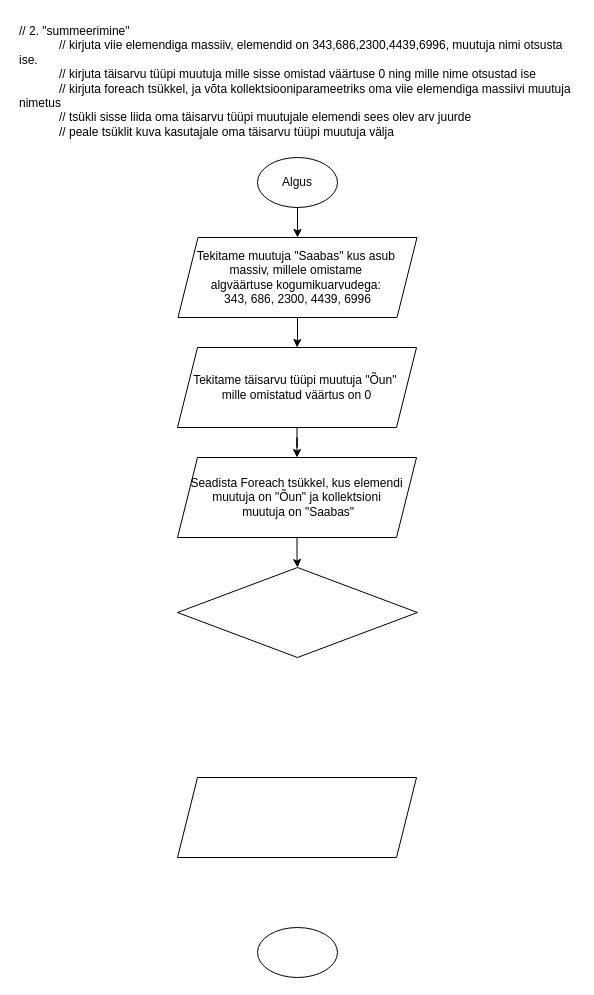
Image size: 594x995. Some labels were removed from this diagram. The centre of each missing label's shape, as x and y in pixels:
"Kas eelmine element oli kollektsioonis viimane element?" goes at (x=297, y=612).
"Lõpp" goes at (x=297, y=952).
